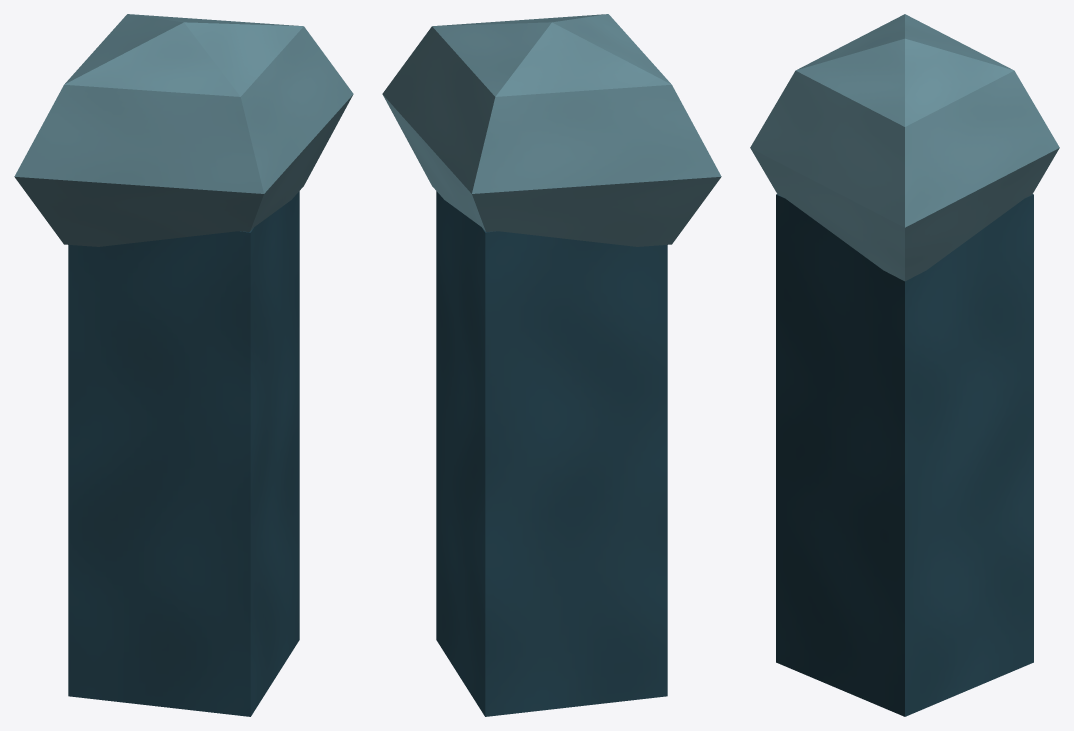
File: atlas100-s063-a05.lod2.glb
3 renders of one model, left to right at view 1: azimuth 30°, elevation 25°; view 2: azimuth 150°, elevation 25°; view 3: azimuth 270°, elevation 25°, orthographic. The views are drawn at different scales.
Visible parts, largest first — view 1: atlas100-s063-a05:part-001, atlas100-s063-a05:part-002; view 2: atlas100-s063-a05:part-001, atlas100-s063-a05:part-002; view 3: atlas100-s063-a05:part-001, atlas100-s063-a05:part-002.
Boxes of the visible parts, box(x1,y1,x2,y2) form: atlas100-s063-a05:part-001: box(68, 191, 299, 716); atlas100-s063-a05:part-002: box(14, 14, 353, 246); atlas100-s063-a05:part-001: box(436, 191, 667, 716); atlas100-s063-a05:part-002: box(382, 14, 721, 246); atlas100-s063-a05:part-001: box(776, 194, 1033, 716); atlas100-s063-a05:part-002: box(750, 14, 1059, 281).
Size of the model in its own units: 0.2402 by 0.4368 by 0.1966.
2 materials, 2 textured.
